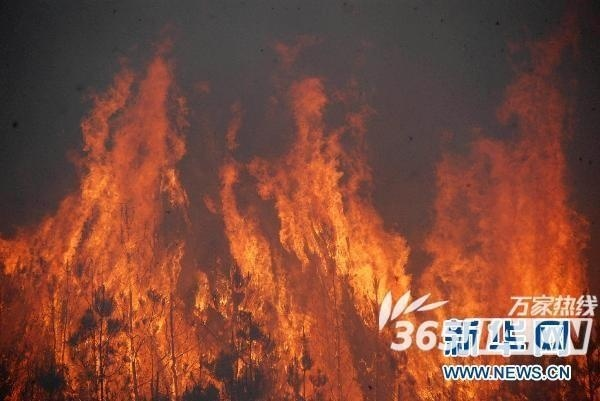fire: (10, 51, 565, 395)
